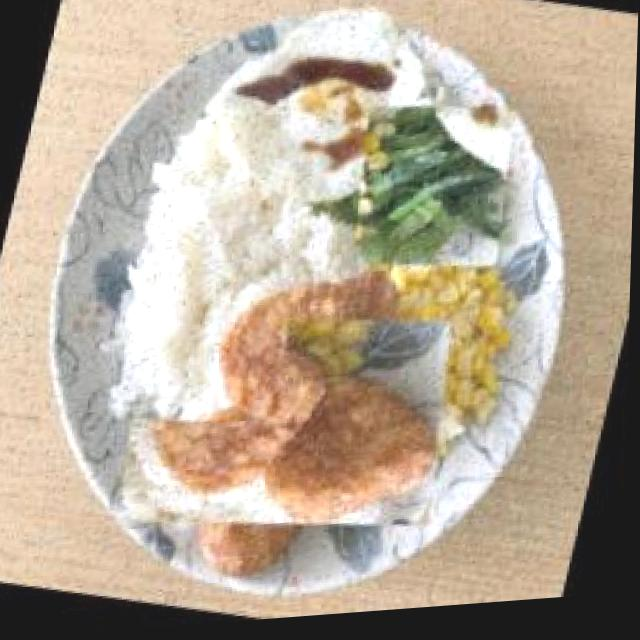fried_eggs: (181, 0, 465, 249)
rice: (72, 133, 339, 461)
triangle_hash_brown: (114, 246, 462, 606)
water_spinach: (331, 86, 538, 298)
